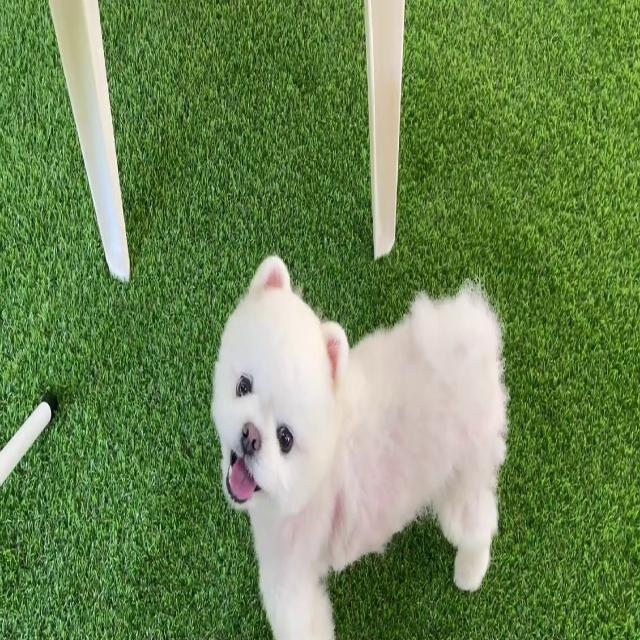Dog: (208, 253, 510, 640)
